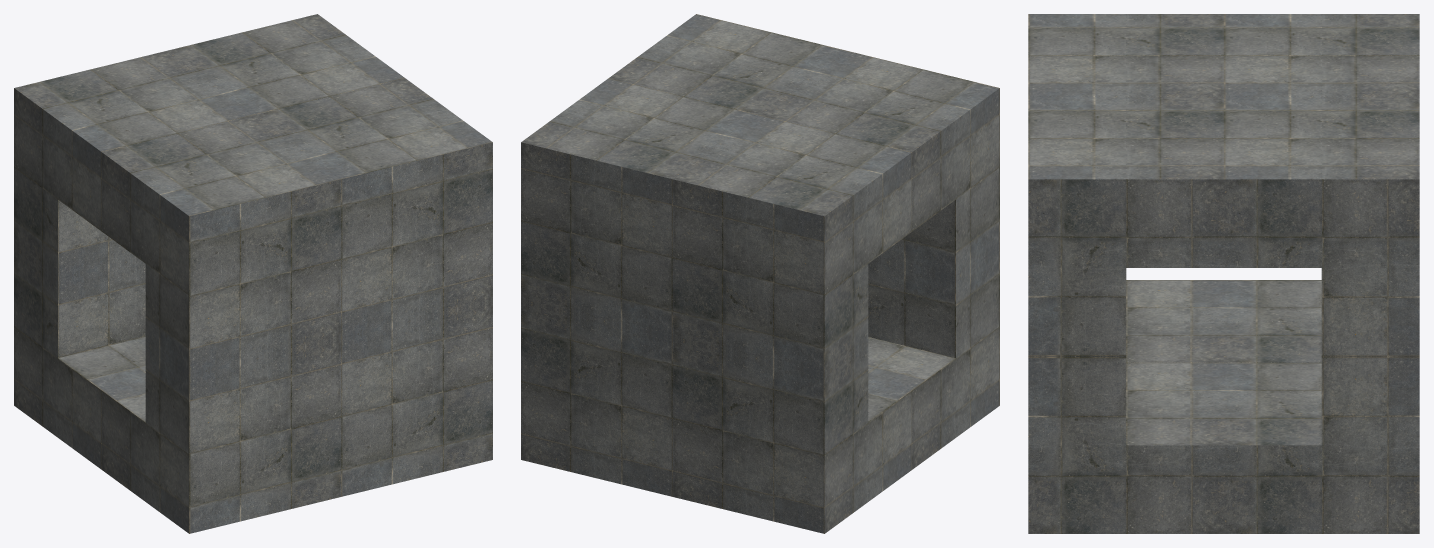
The model's file is Straight.glb.
3 renders of one model, left to right at view 1: azimuth 30°, elevation 25°; view 2: azimuth 150°, elevation 25°; view 3: azimuth 270°, elevation 25°, orthographic. The views are drawn at different scales.
Visible parts, largest first — view 1: Straight; view 2: Straight; view 3: Straight.
Part boxes in pixels (x1=…): Straight: x1=14, y1=14, x2=492, y2=533; Straight: x1=521, y1=14, x2=999, y2=533; Straight: x1=1028, y1=14, x2=1419, y2=533.
Bounding box in the file's own units: 1 × 1 × 1.
Materials: 1 (1 with a texture image).
